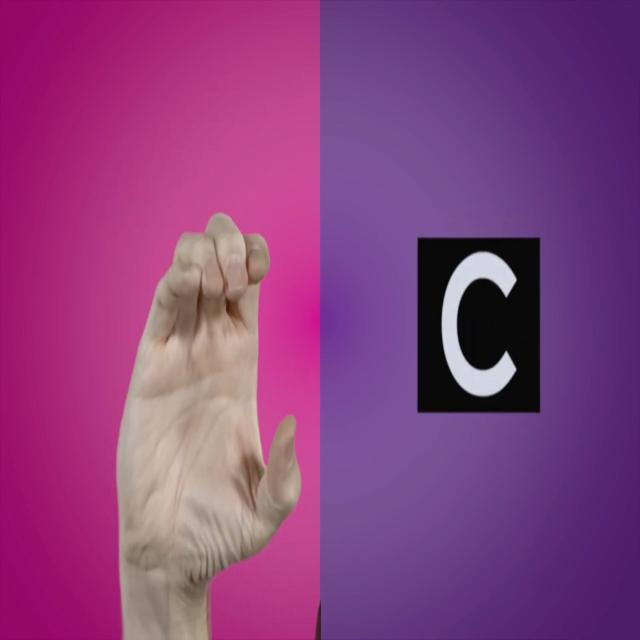C: (96, 151, 310, 640)
